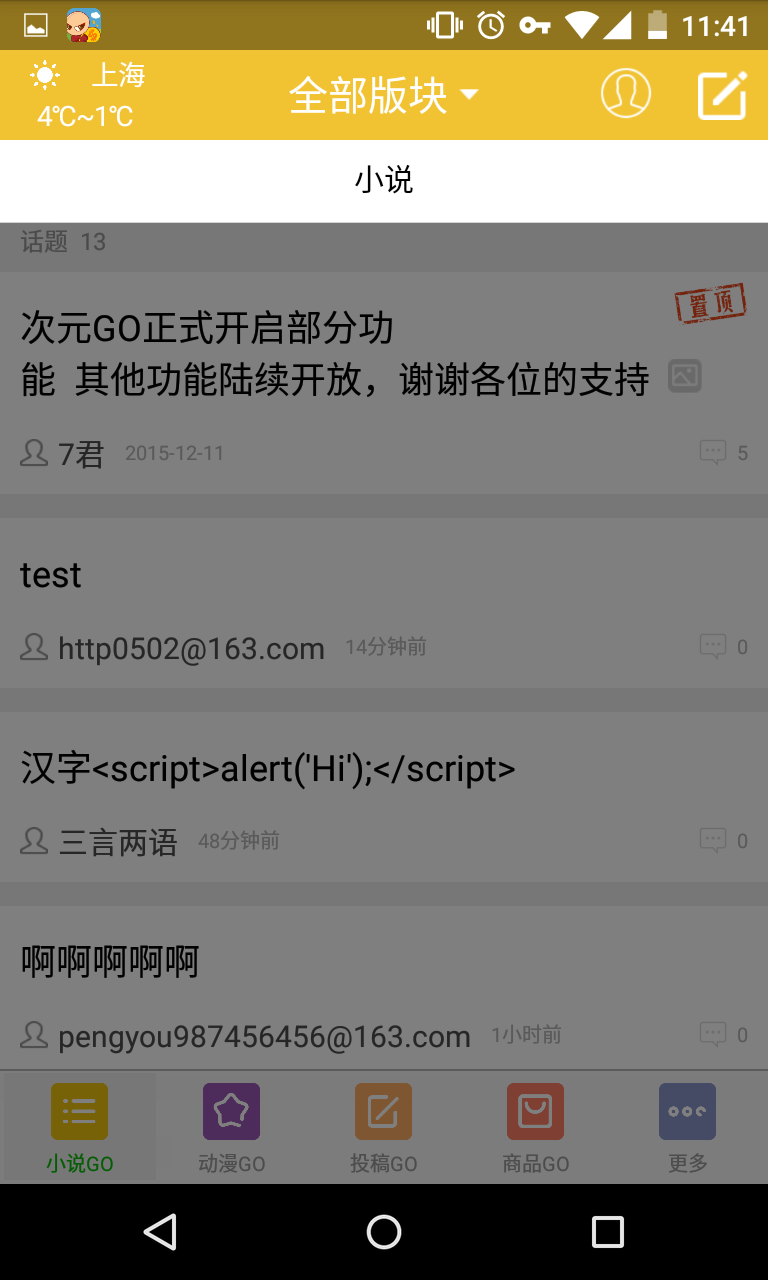nav: (35, 1064, 768, 1187)
textview: (21, 63, 538, 198)
